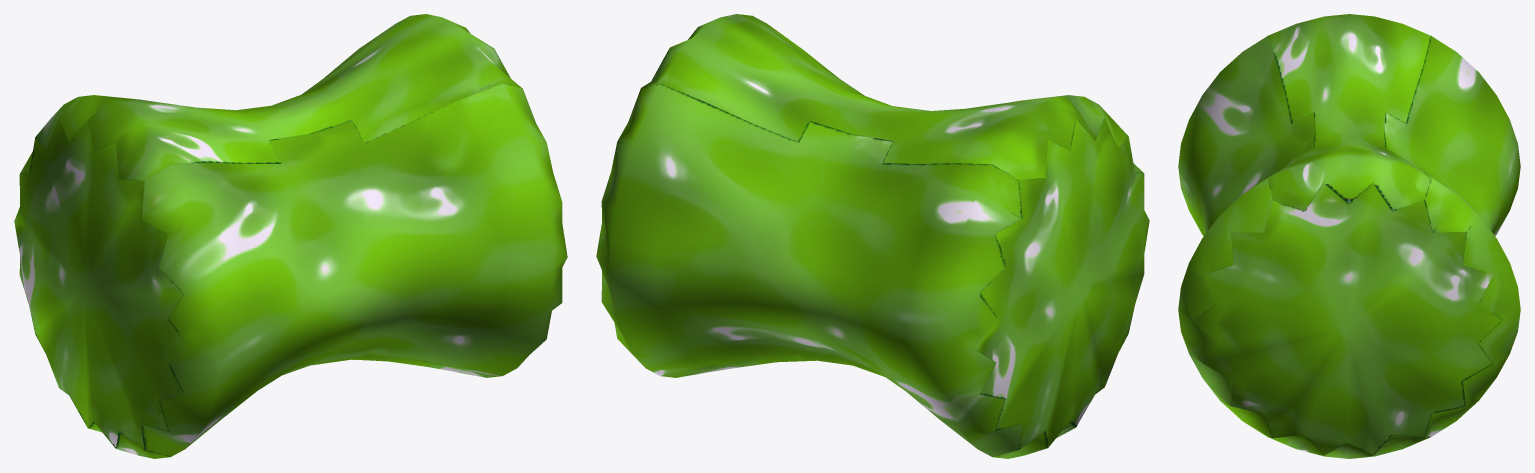
The model's file is attach_jelly_lightGreen.FBX.
The picture shows the model from 3 angles, left to right: view 1: azimuth 30°, elevation 25°; view 2: azimuth 150°, elevation 25°; view 3: azimuth 270°, elevation 25°; orthographic projection. The views are drawn at different scales.
Visible parts, largest first — view 1: 접착; view 2: 접착; view 3: 접착.
Boxes of the visible parts, box(x1,y1,x2,y2) form: 접착: box(14, 14, 567, 458); 접착: box(596, 14, 1149, 458); 접착: box(1178, 14, 1520, 458).
Size of the model in its own units: 4.03 by 3.26 by 3.17.
1 material, 1 textured.
